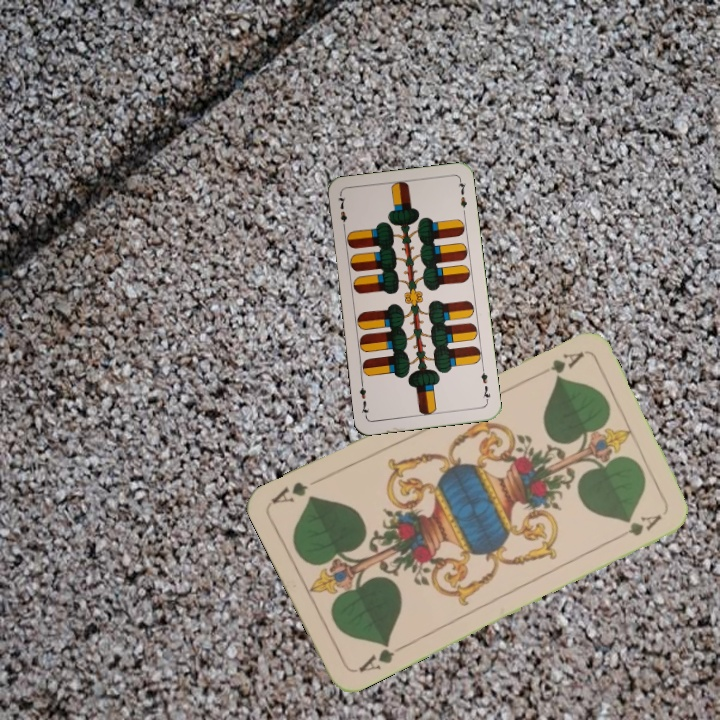E7: (477, 364, 493, 405), (334, 191, 350, 232)
GA: (354, 637, 407, 675), (546, 347, 586, 376)
